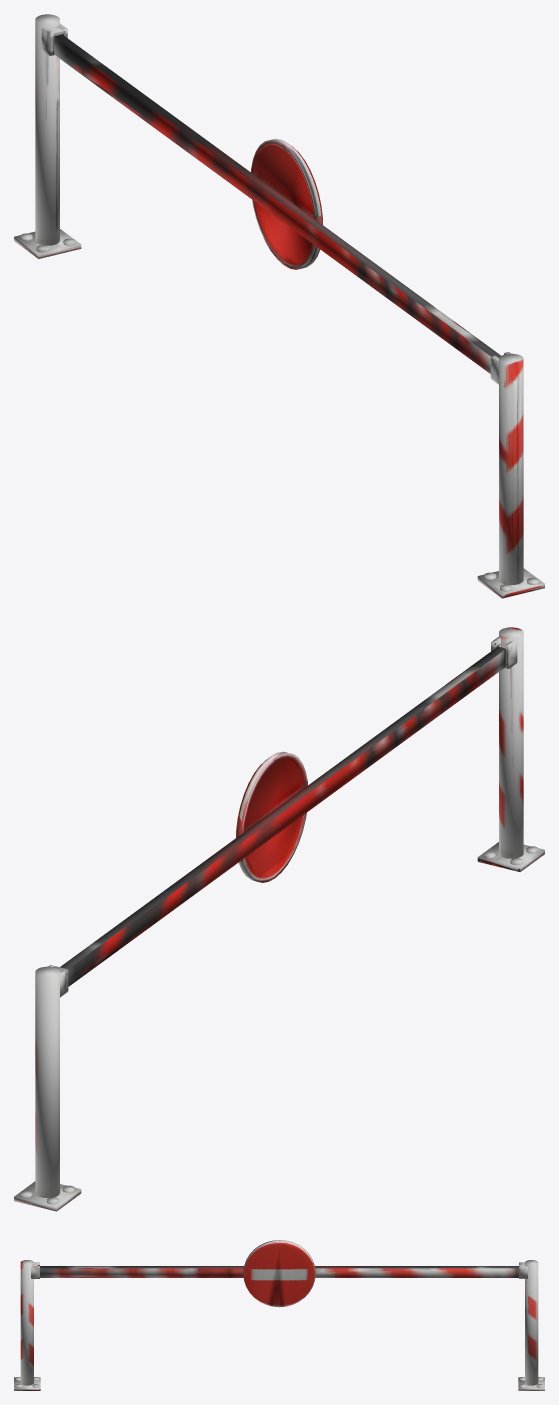
Rendered from Meshy_AI__0105062434_texture.fbx.
3 renders of one model, top to bottom at view 1: azimuth 30°, elevation 25°; view 2: azimuth 150°, elevation 25°; view 3: azimuth 270°, elevation 25°, orthographic. The views are drawn at different scales.
Parts seen in each view (by area): view 1: Mesh_0; view 2: Mesh_0; view 3: Mesh_0.
Part boxes in pixels (<box>): Mesh_0: <box>14,14,544,598</box>; Mesh_0: <box>14,627,544,1211</box>; Mesh_0: <box>14,1240,544,1390</box>.
Bounding box in the file's own units: 10.1 × 60.81 × 200.
1 material, 1 textured.
